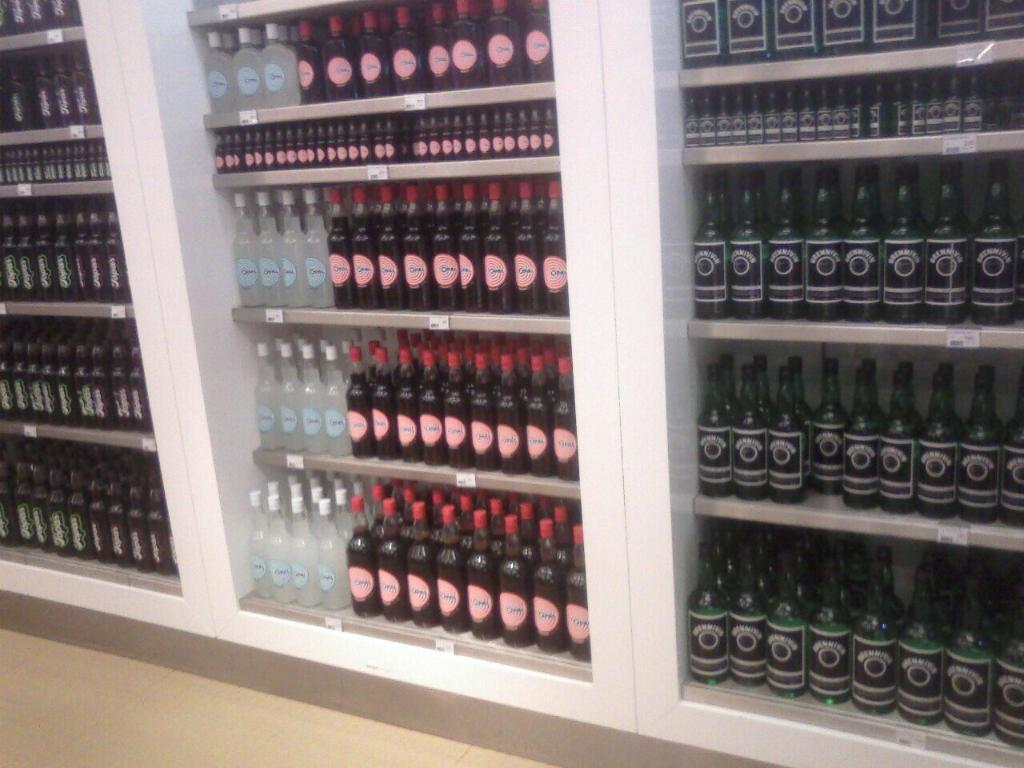refrigerator door: (161, 11, 614, 681), (635, 30, 1024, 722), (9, 46, 191, 595)
